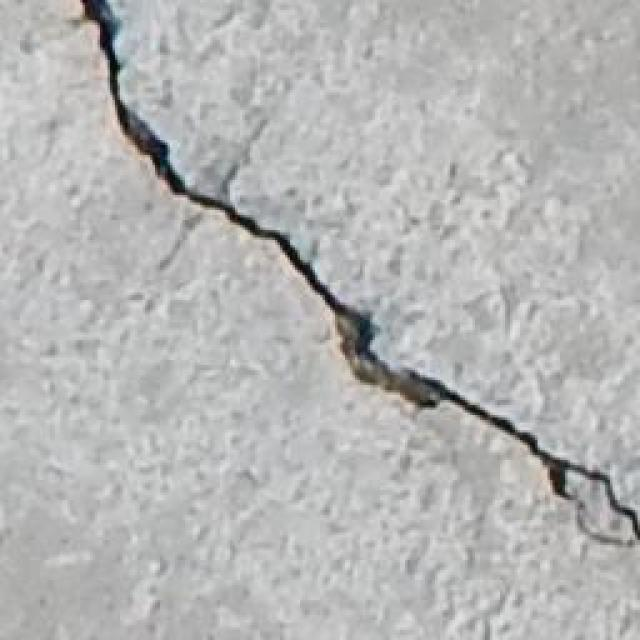concrete-crack: (78, 0, 640, 546)
